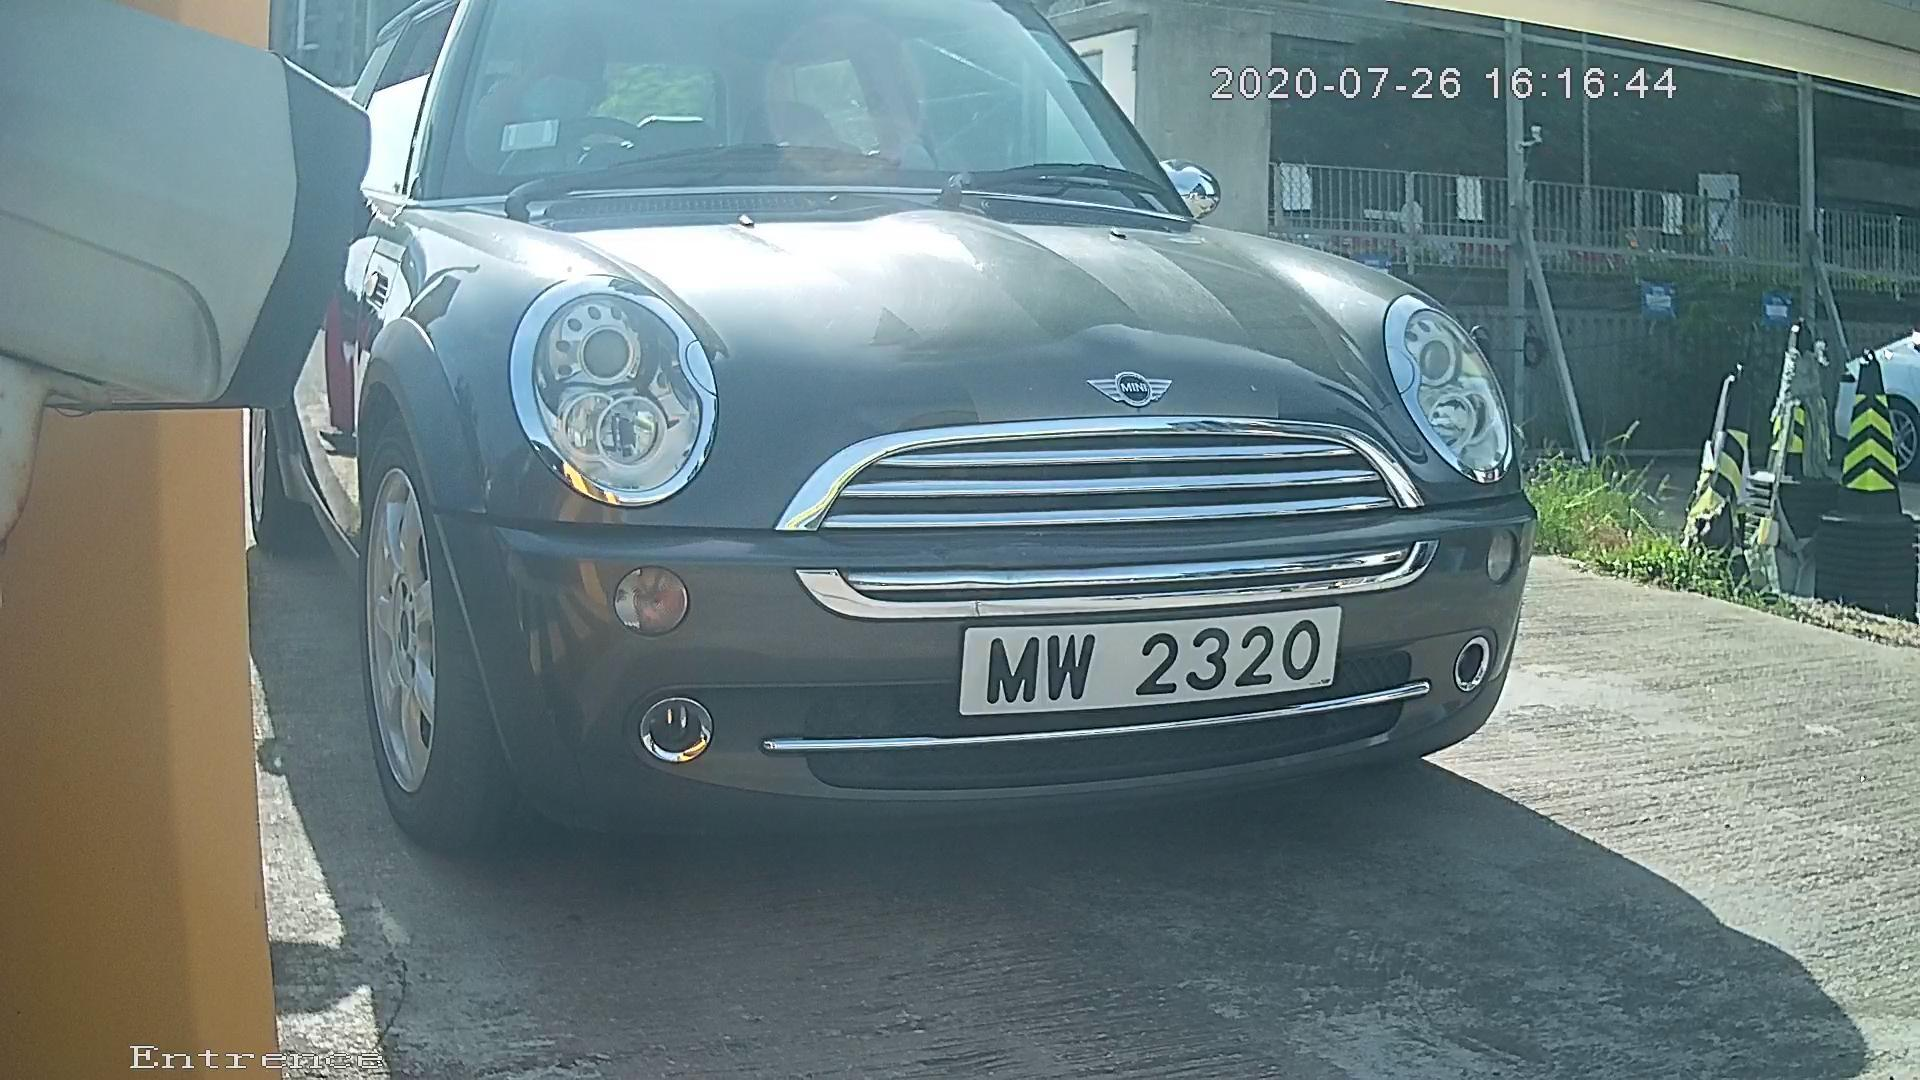privatecar: (232, 15, 1611, 878)
